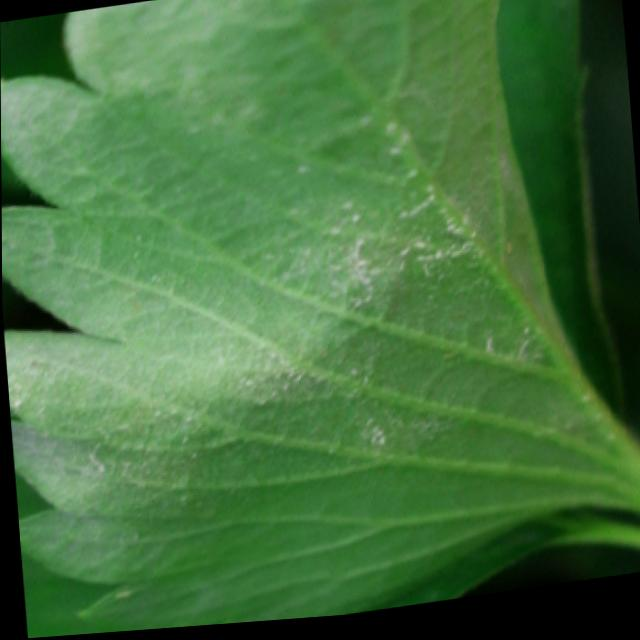Powdery Mildew Leaf: (0, 0, 640, 633)
